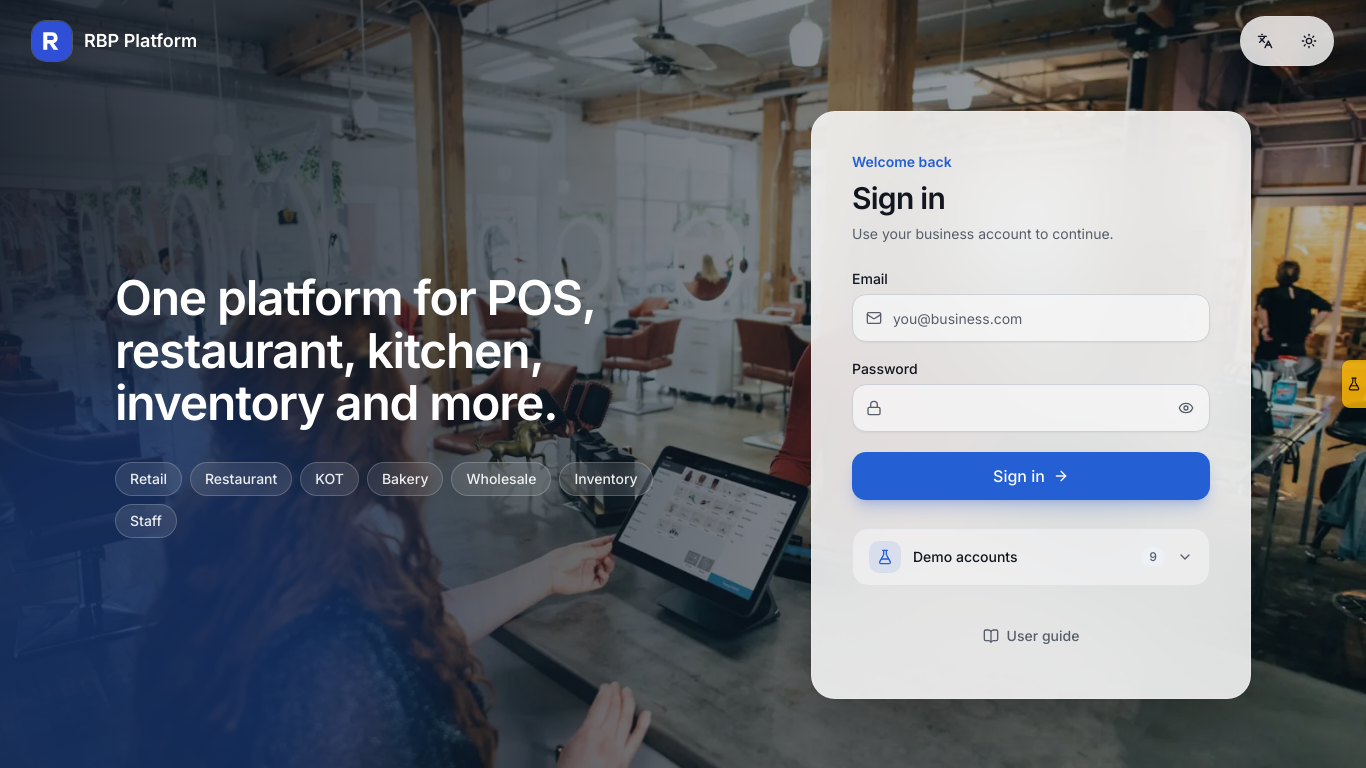
Test: app shell flow › hides modules the tenant is not entitled to
Step 1. Type "owner@grocery.demo" into the field labelled "Email" → (1031, 318), box 852,294 -> 1210,342
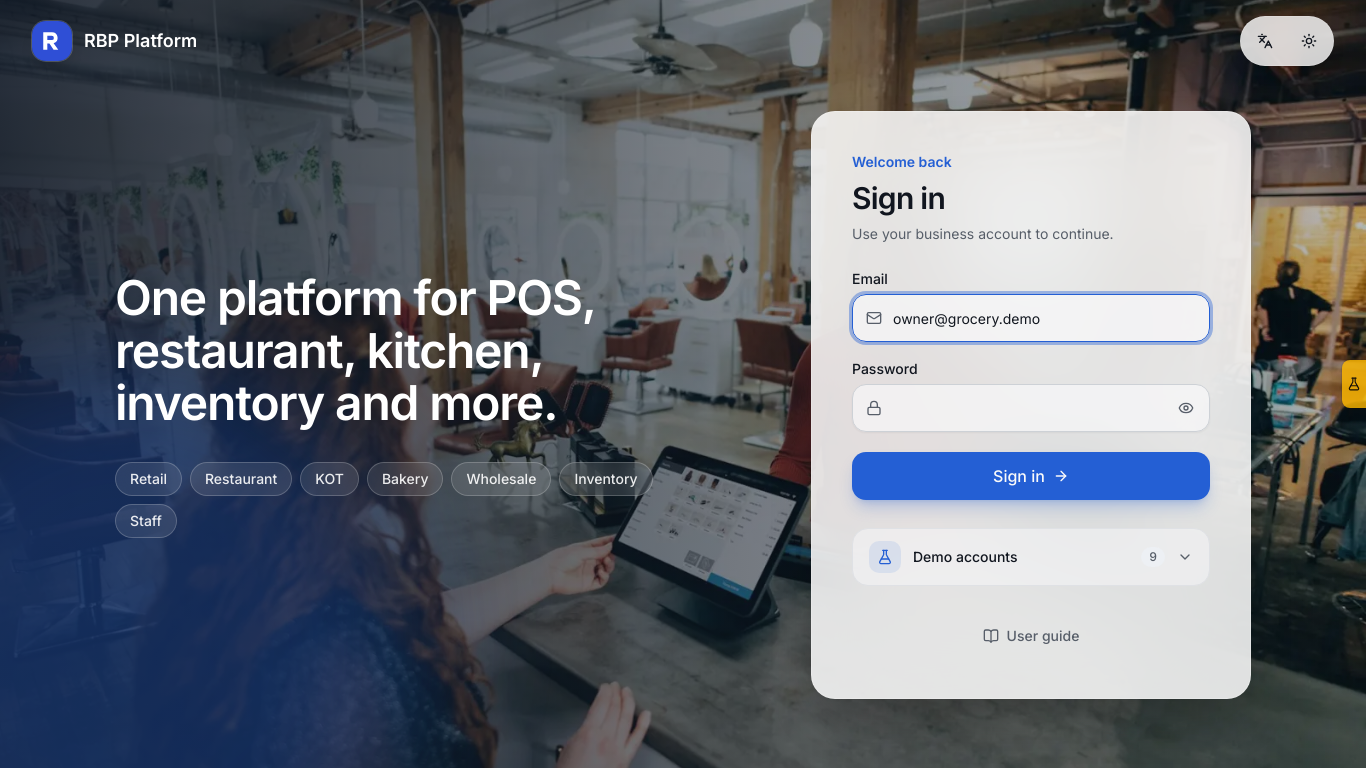
Step 2. Type "demo1234" into the password field labelled "Password" → (1031, 408), box 852,384 -> 1210,432
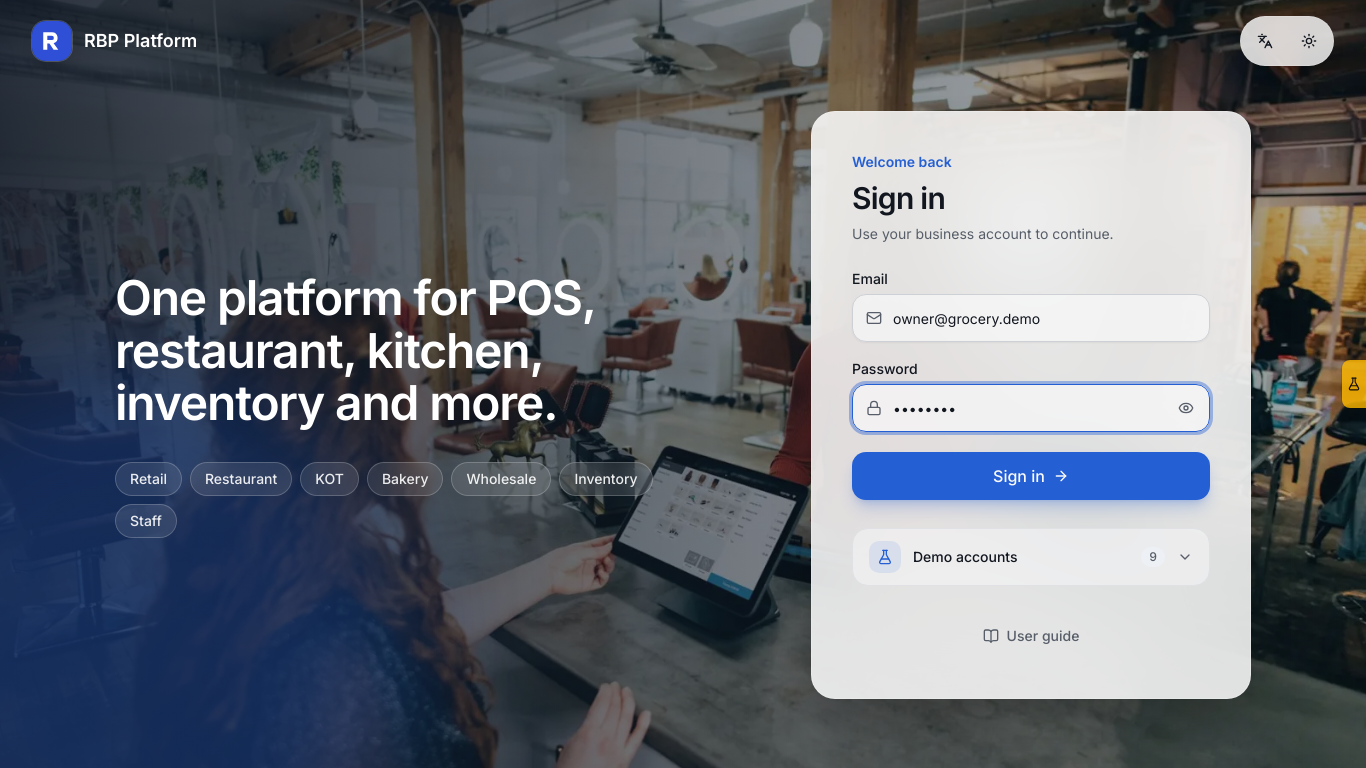
Step 3. Click the button "Sign in" → (1031, 476), box 852,452 -> 1210,500
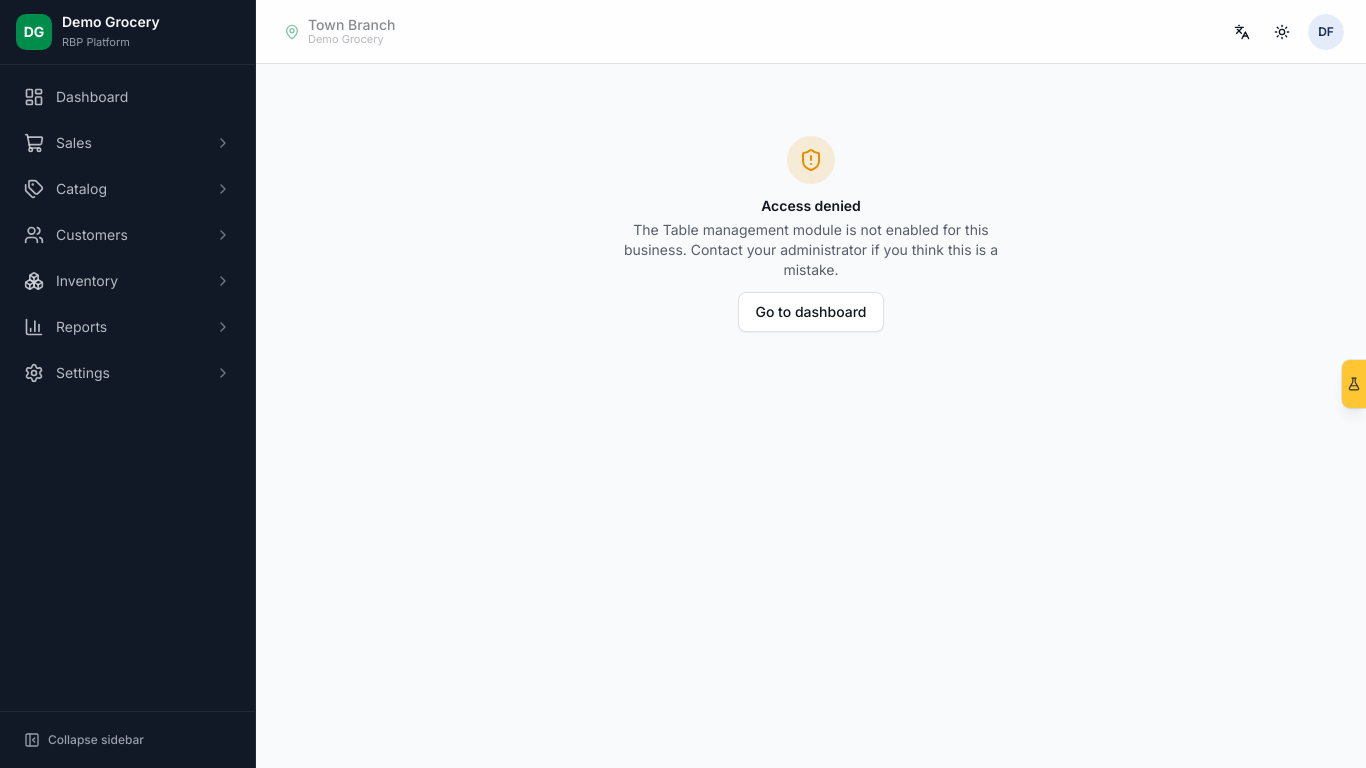
Expected: the text "Table management module is not enabled" is shown, 624,221 -> 989,258
